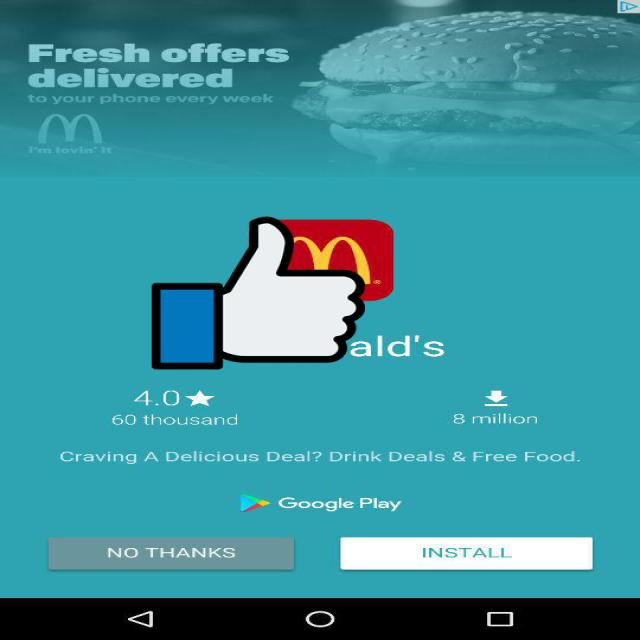privacy zuckering: (152, 213, 365, 373)
